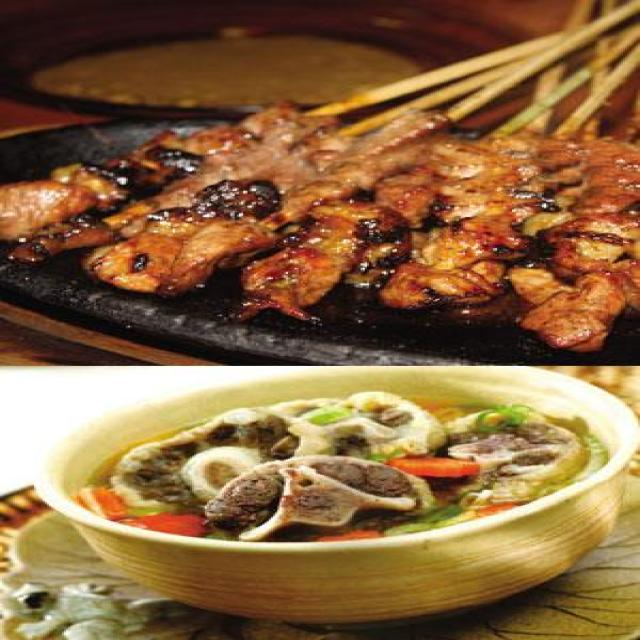Sate: (48, 31, 631, 312)
